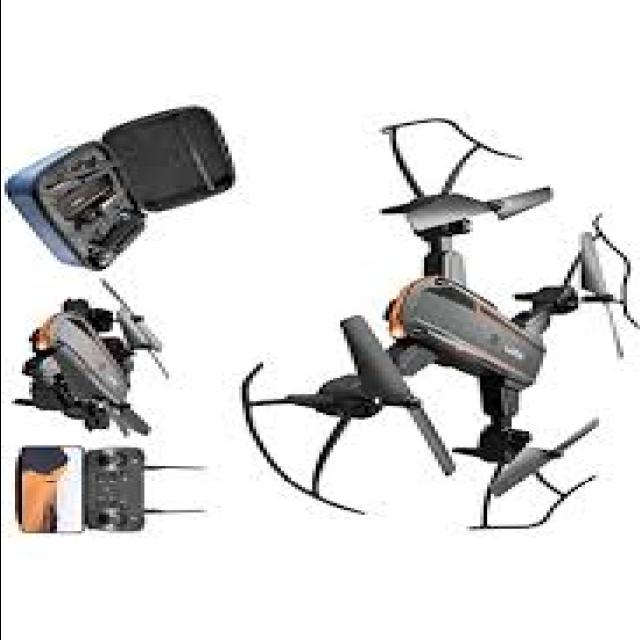drone: (219, 98, 640, 558)
